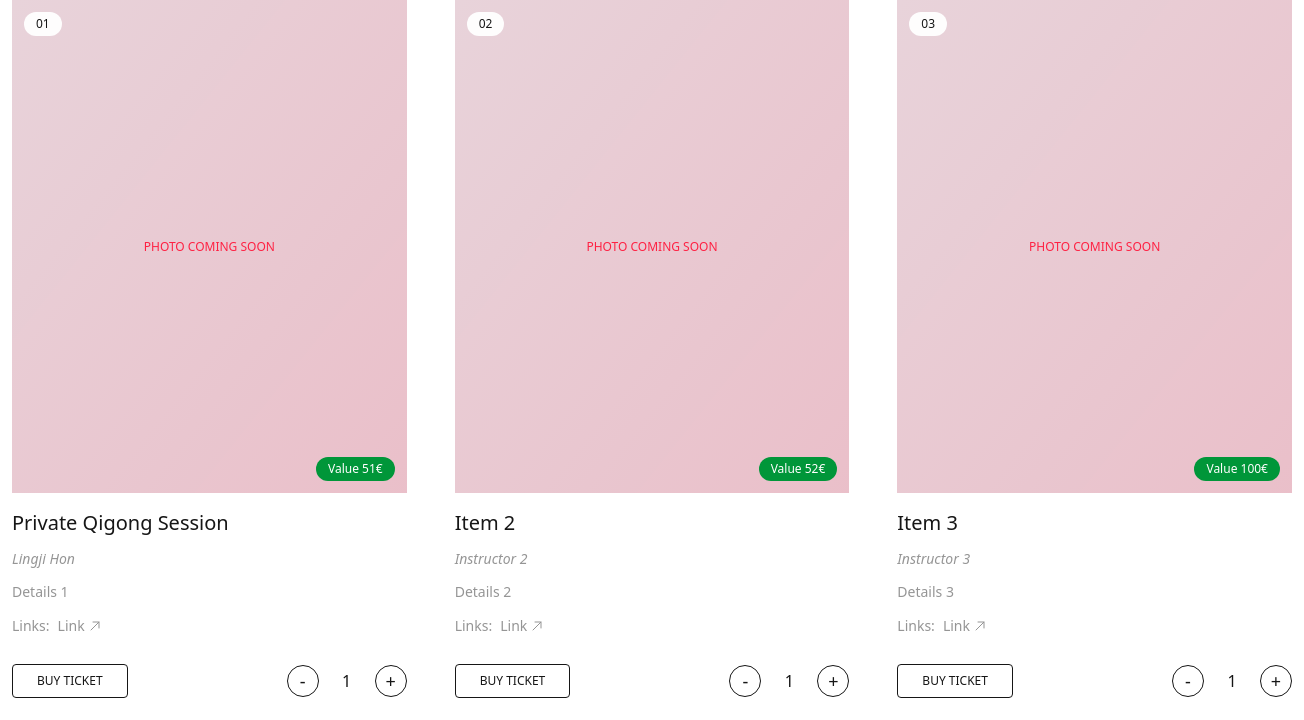
RaffleGrid - PayPal Integration › allows users to increase quantity
Click the button "+" below "Private Qigong Session": (391, 681) [375,665,407,697]
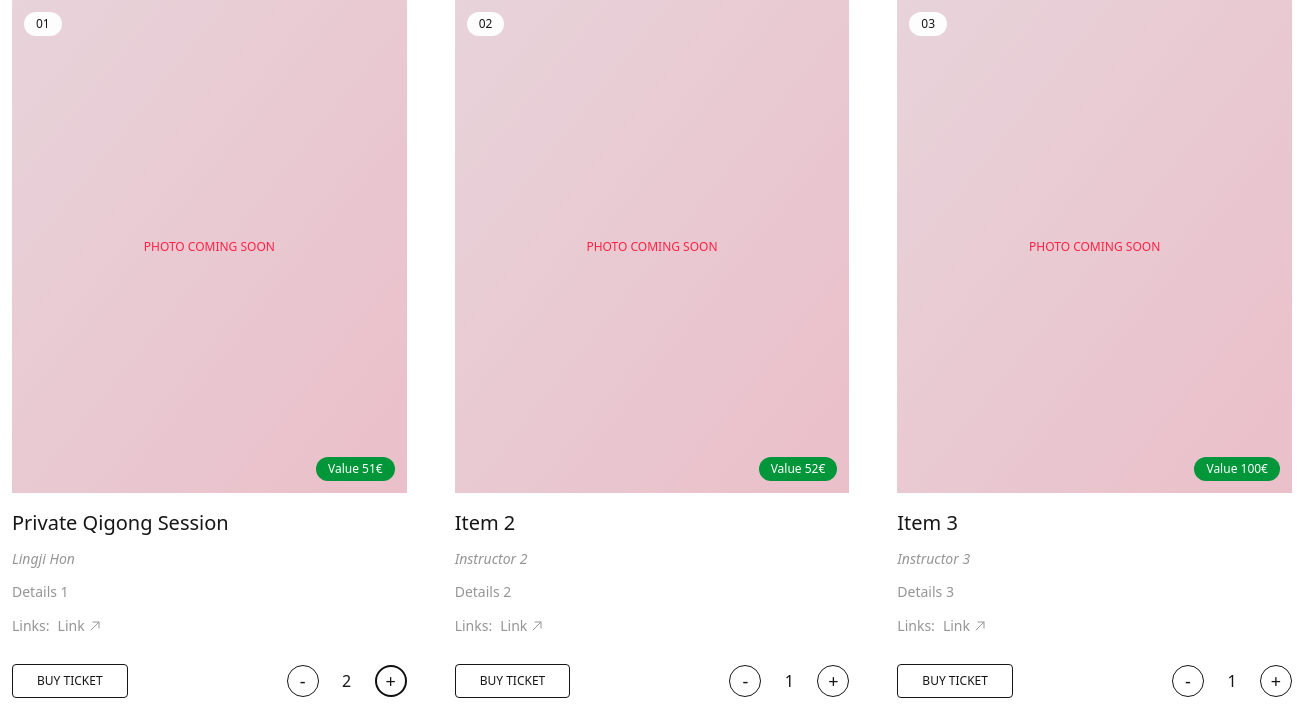
Now the text "2" is shown, box [342,670,351,692]
